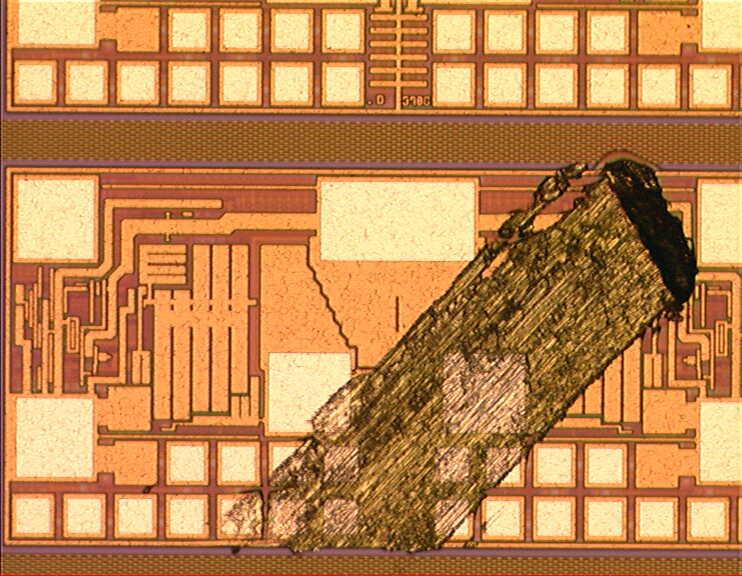SCRATCH: (211, 150, 702, 557)
